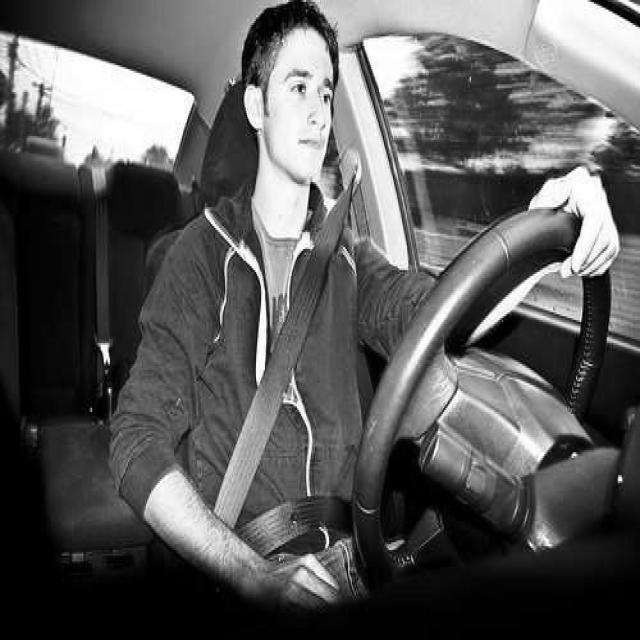Seatbelt: (206, 197, 347, 518)
